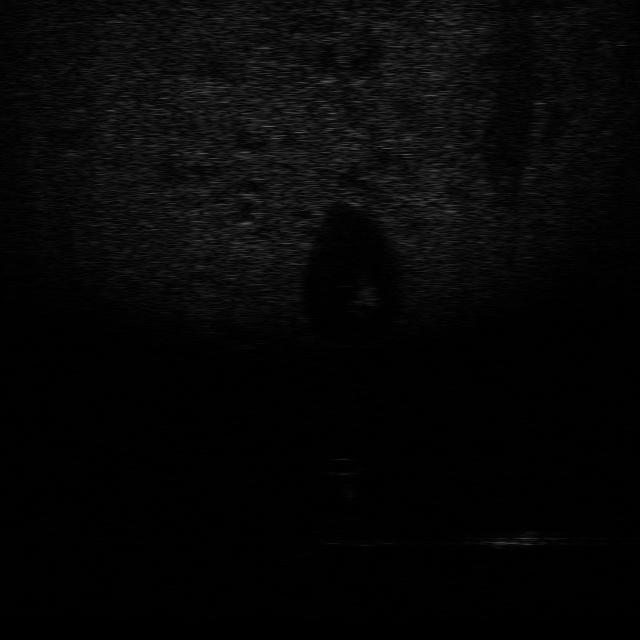ball: (319, 453, 366, 479)
metal bucket: (469, 523, 565, 552)
tyre: (309, 516, 391, 551)
